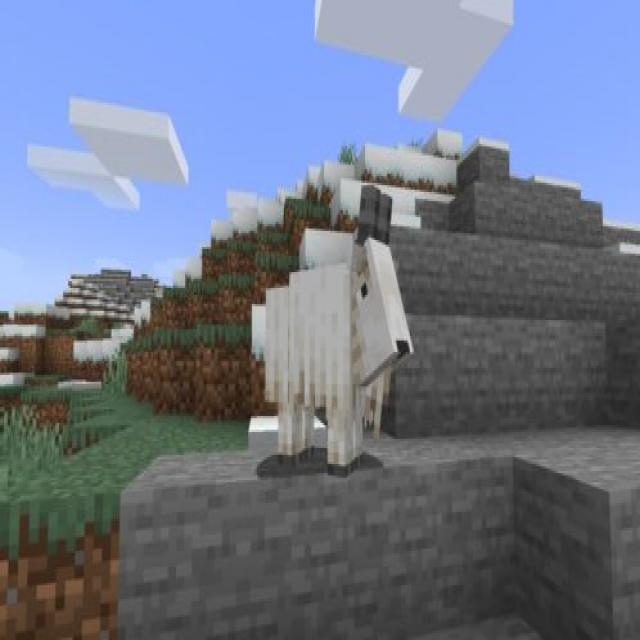Goat: (250, 173, 417, 477)
